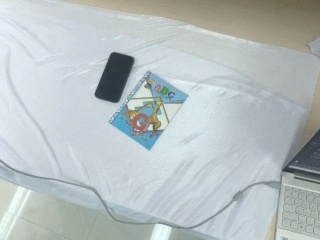book: (108, 70, 189, 152)
phone: (94, 51, 135, 103)
